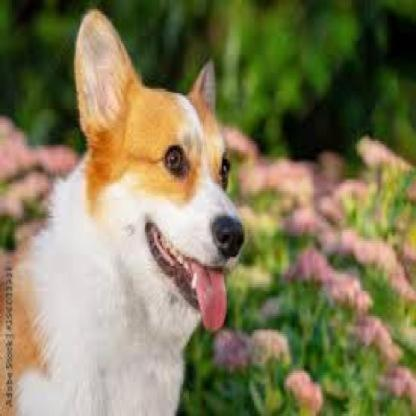dog: (5, 9, 246, 414)
